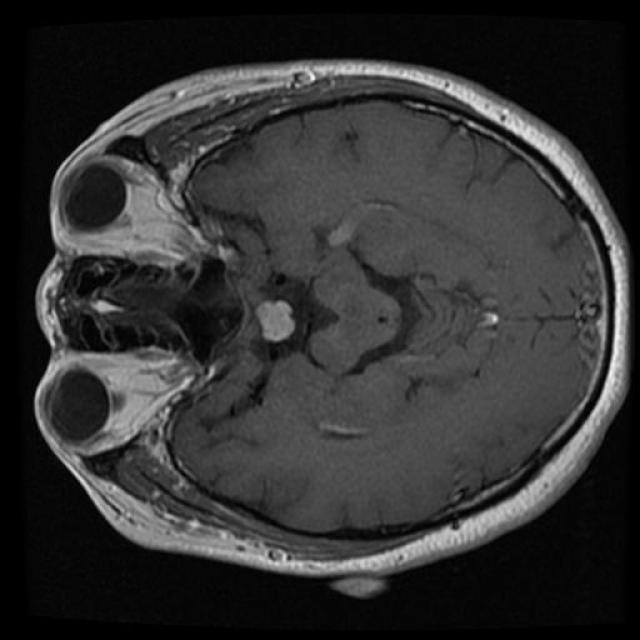Pituitary: (255, 300, 295, 342)
